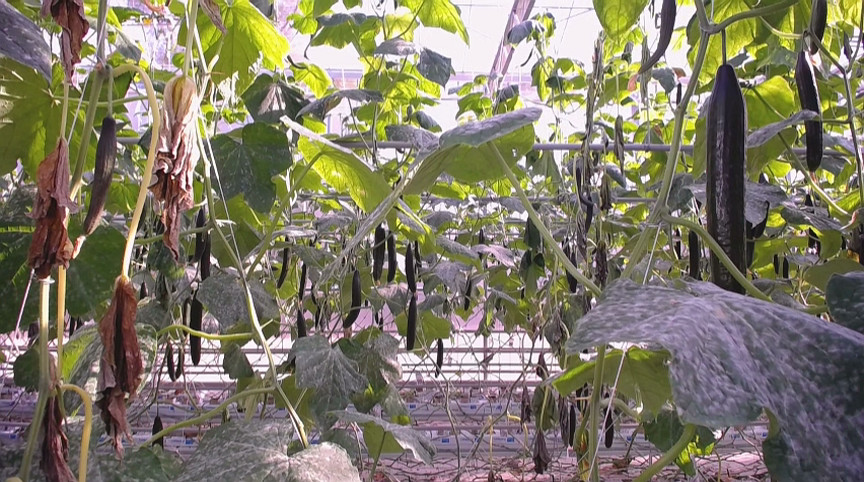cucumber: (708, 64, 746, 297), (82, 116, 118, 237), (793, 51, 826, 173), (637, 1, 683, 73), (343, 270, 362, 327), (191, 290, 204, 365), (372, 224, 386, 281), (405, 297, 418, 351), (404, 242, 417, 293)
